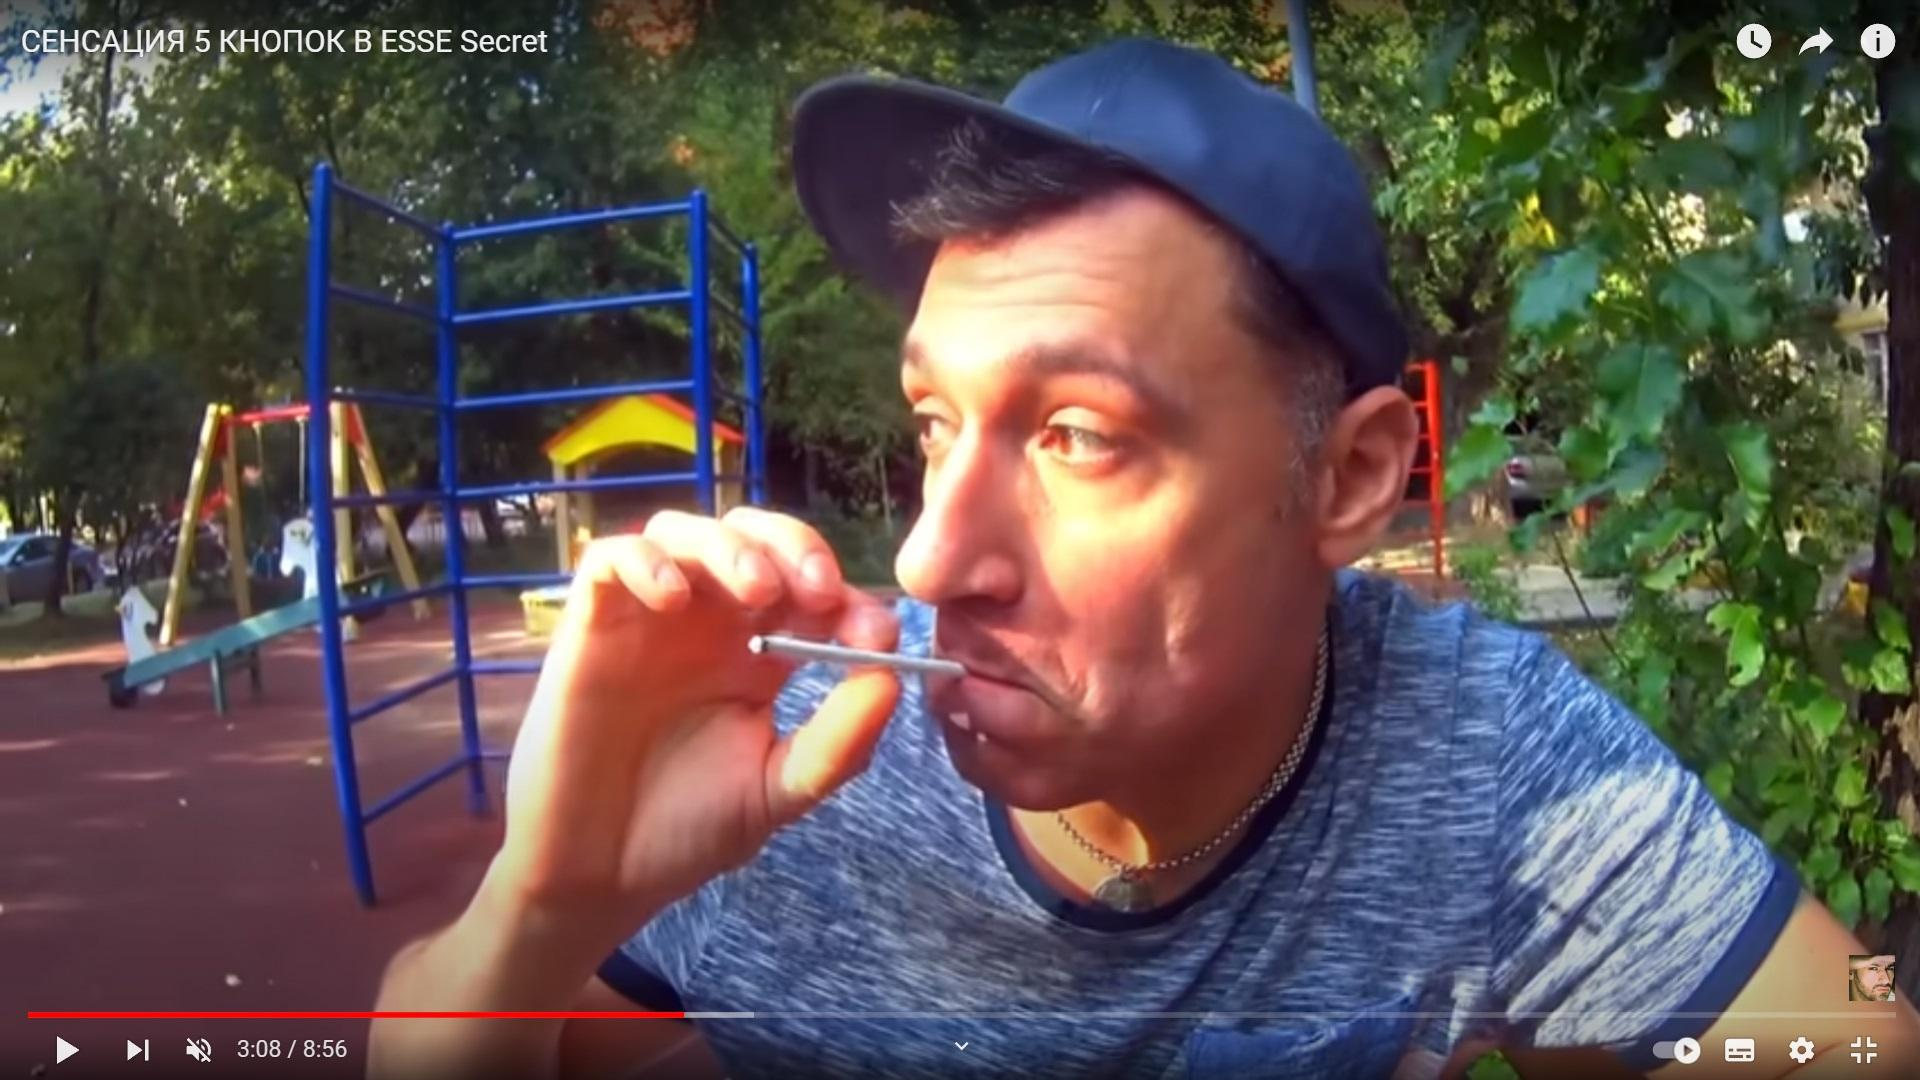cigarette: (746, 633, 969, 679)
